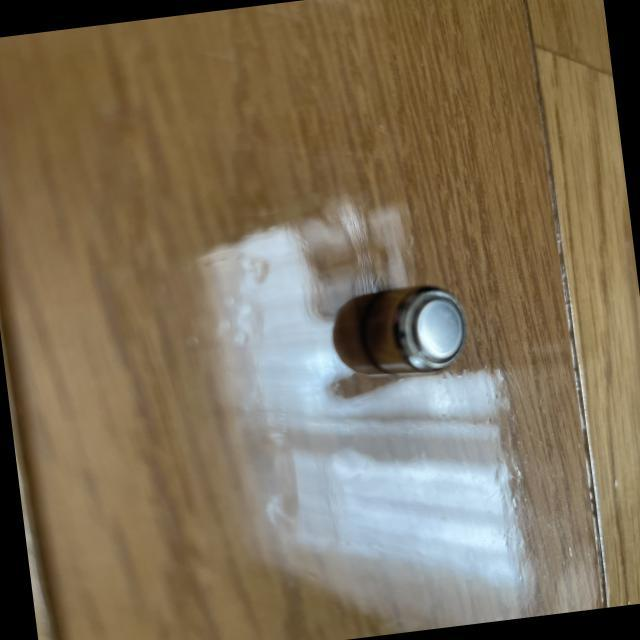COIN: (356, 279, 471, 381)
